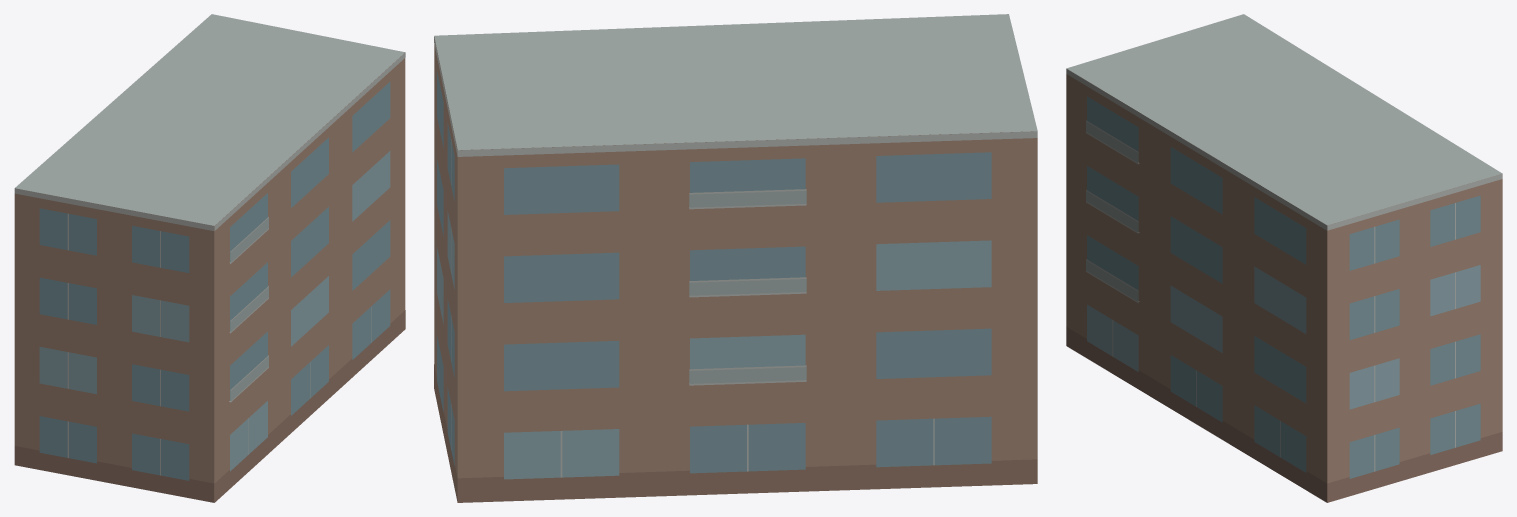
File: survey-upis-32828970.glb
3 renders of one model, left to right at view 1: azimuth 30°, elevation 25°; view 2: azimuth 150°, elevation 25°; view 3: azimuth 270°, elevation 25°, orthographic. The views are drawn at different scales.
Visible parts, largest first — view 1: survey-upis-32828970.tmp; view 2: survey-upis-32828970.tmp; view 3: survey-upis-32828970.tmp.
Part boxes in pixels (left/top/right/bottom): survey-upis-32828970.tmp: left=14, top=14, right=405, bottom=502; survey-upis-32828970.tmp: left=434, top=14, right=1037, bottom=502; survey-upis-32828970.tmp: left=1066, top=14, right=1502, bottom=502.
Bounding box in the file's own units: 20.76 × 12.7 × 18.11.
